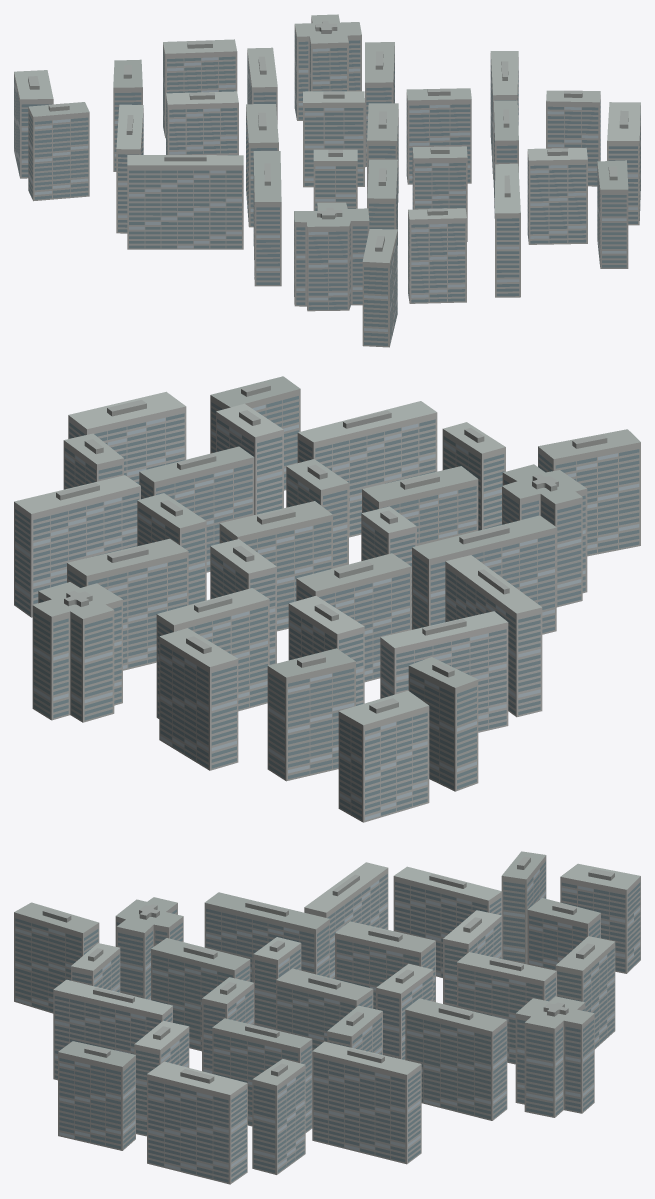
The model's file is apt-a13611007.glb.
3 views of the same model, one above another, from view 1: azimuth 30°, elevation 25°; view 2: azimuth 150°, elevation 25°; view 3: azimuth 270°, elevation 25° (orthographic). The views are drawn at different scales.
Parts seen in each view (by area): view 1: apt-a13611007; view 2: apt-a13611007; view 3: apt-a13611007.
Part boxes in pixels (x1,y1,x2,y2): apt-a13611007: [14, 14, 640, 347]; apt-a13611007: [14, 376, 640, 822]; apt-a13611007: [14, 851, 640, 1184].
Size of the model in its own units: 279 by 50 by 303.
